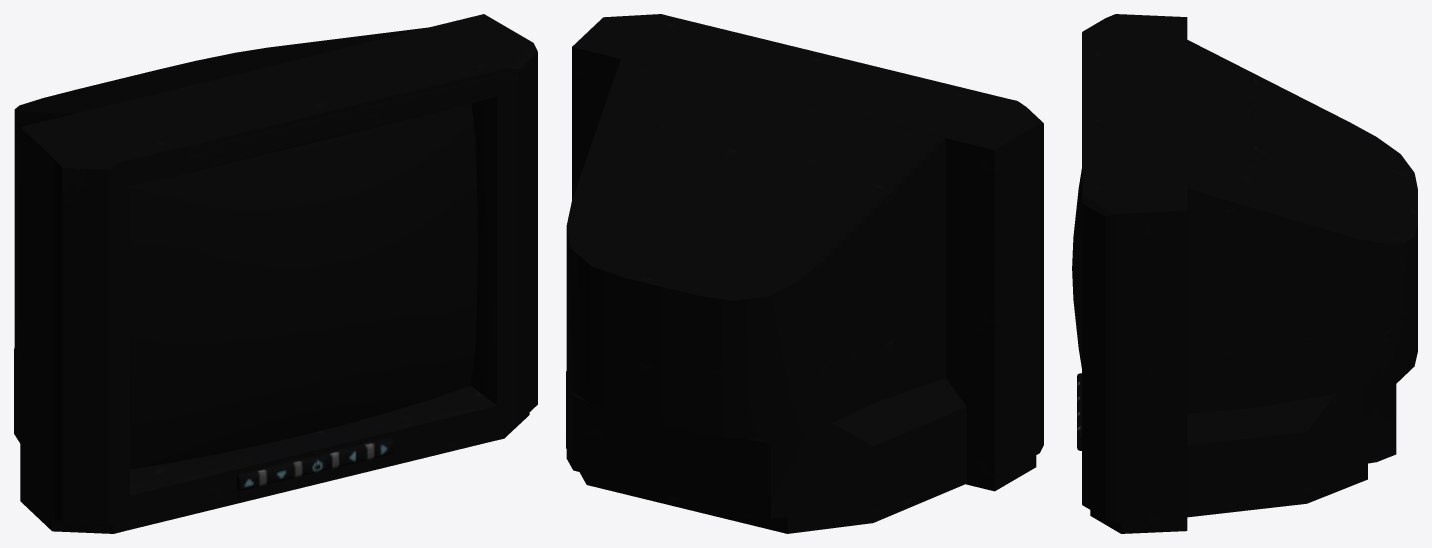
Rendered from typicalTV.glb.
3 views of the same model, side by side, from view 1: azimuth 30°, elevation 25°; view 2: azimuth 150°, elevation 25°; view 3: azimuth 270°, elevation 25° (orthographic). The views are drawn at different scales.
Visible parts, largest first — view 1: TV_Frame, typicalTVScreen, TV_Back1, typicalTVButtons, TV_Back2; view 2: TV_Back1, TV_Frame, TV_Back2; view 3: TV_Back1, TV_Frame, TV_Back2, typicalTVScreen.
Part boxes in pixels (x1,y1,x2,y2): TV_Frame: (20, 14, 537, 533); typicalTVScreen: (130, 103, 477, 469); TV_Back1: (14, 27, 426, 345); typicalTVButtons: (236, 437, 393, 491); TV_Back2: (14, 321, 20, 443); TV_Back1: (566, 59, 945, 518); TV_Frame: (572, 14, 1043, 491); TV_Back2: (566, 371, 966, 533); TV_Back1: (1187, 40, 1417, 467); TV_Frame: (1082, 14, 1187, 533); TV_Back2: (1187, 393, 1367, 517); typicalTVScreen: (1072, 167, 1082, 367).
Bounding box in the file's own units: 1.82 × 1.36 × 1.33.
Materials: 2 (1 with a texture image).
